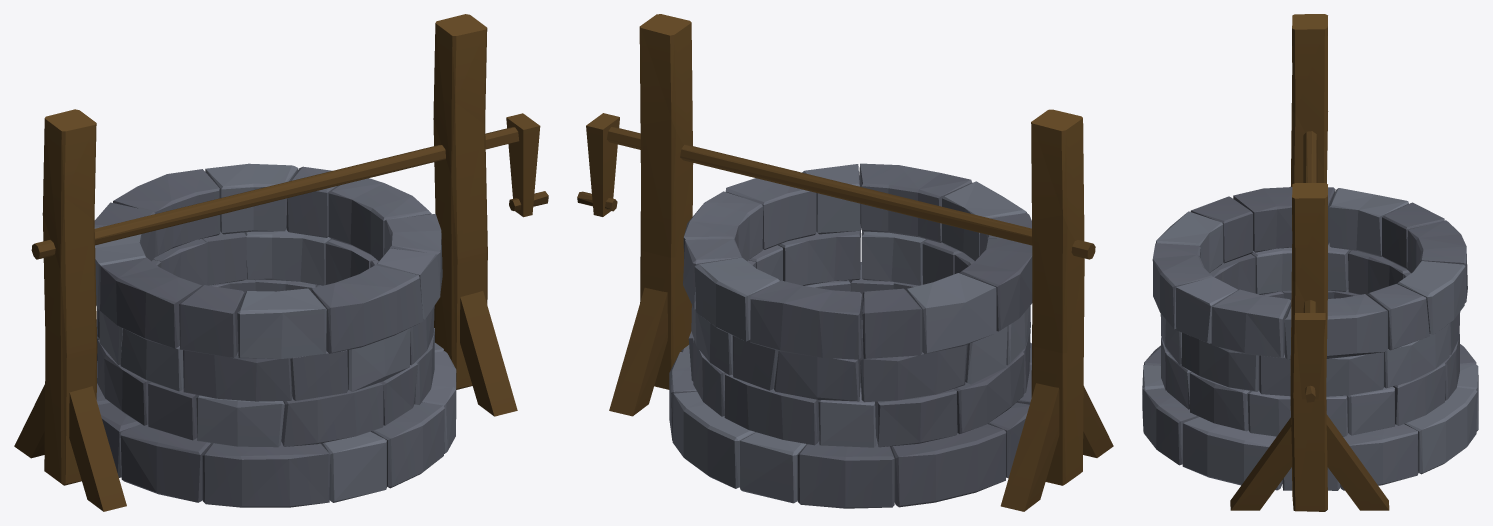
The model's file is Well.fbx.
3 views of the same model, side by side, from view 1: azimuth 30°, elevation 25°; view 2: azimuth 150°, elevation 25°; view 3: azimuth 270°, elevation 25° (orthographic). The views are drawn at different scales.
Parts seen in each view (by area): view 1: Well; view 2: Well; view 3: Well.
Part boxes in pixels (box(x1,y1,x2,y2)): Well: box(14, 14, 548, 511); Well: box(577, 14, 1113, 511); Well: box(1142, 14, 1478, 511).
Size of the model in its own units: 219 by 146 by 141.
